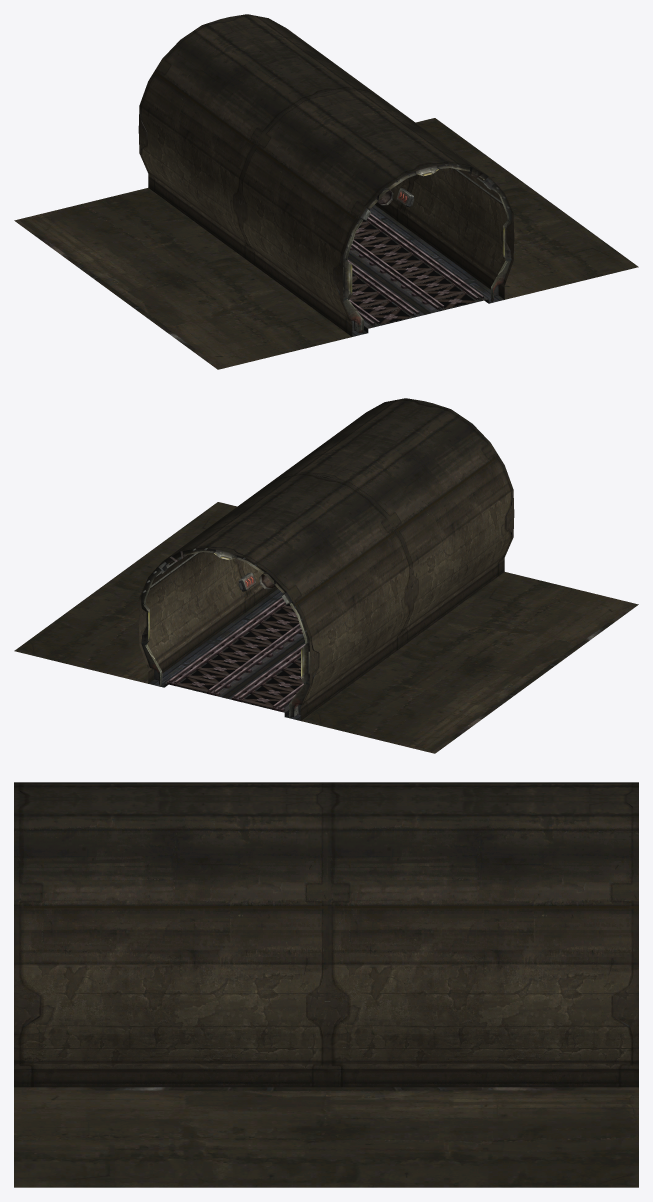
The model's file is Rtrain_Rail.FBX.
The picture shows the model from 3 angles, top to bottom: view 1: azimuth 30°, elevation 25°; view 2: azimuth 150°, elevation 25°; view 3: azimuth 270°, elevation 25°; orthographic projection. The views are drawn at different scales.
Visible parts, largest first — view 1: TRAIN_WALL, TRAIN_WALL_B, TRAIN_WALL_A, TRAIN_RAIL_A, TRAIN_FOOR, TRAIN_RAIL_B, TRAIN_light_A; view 2: TRAIN_WALL, TRAIN_WALL_B, TRAIN_WALL_A, TRAIN_RAIL_A, TRAIN_FOOR, TRAIN_RAIL_B, TRAIN_light_A; view 3: TRAIN_WALL, TRAIN_WALL_B, TRAIN_WALL_A.
Part boxes in pixels (x1,y1,x2,y2): TRAIN_WALL: [138, 14, 514, 336]; TRAIN_WALL_B: [14, 118, 638, 369]; TRAIN_WALL_A: [231, 81, 420, 268]; TRAIN_RAIL_A: [347, 213, 483, 325]; TRAIN_FOOR: [347, 205, 504, 336]; TRAIN_RAIL_B: [350, 220, 475, 324]; TRAIN_light_A: [140, 15, 511, 333]; TRAIN_WALL: [138, 398, 514, 720]; TRAIN_WALL_B: [14, 502, 638, 753]; TRAIN_WALL_A: [231, 466, 421, 652]; TRAIN_RAIL_A: [167, 597, 305, 711]; TRAIN_FOOR: [148, 589, 305, 720]; TRAIN_RAIL_B: [180, 604, 302, 705]; TRAIN_light_A: [141, 399, 512, 717]; TRAIN_WALL: [14, 782, 638, 1087]; TRAIN_WALL_B: [14, 1087, 638, 1187]; TRAIN_WALL_A: [299, 782, 355, 1087].
Size of the model in its own units: 19374 by 6664 by 16256.
